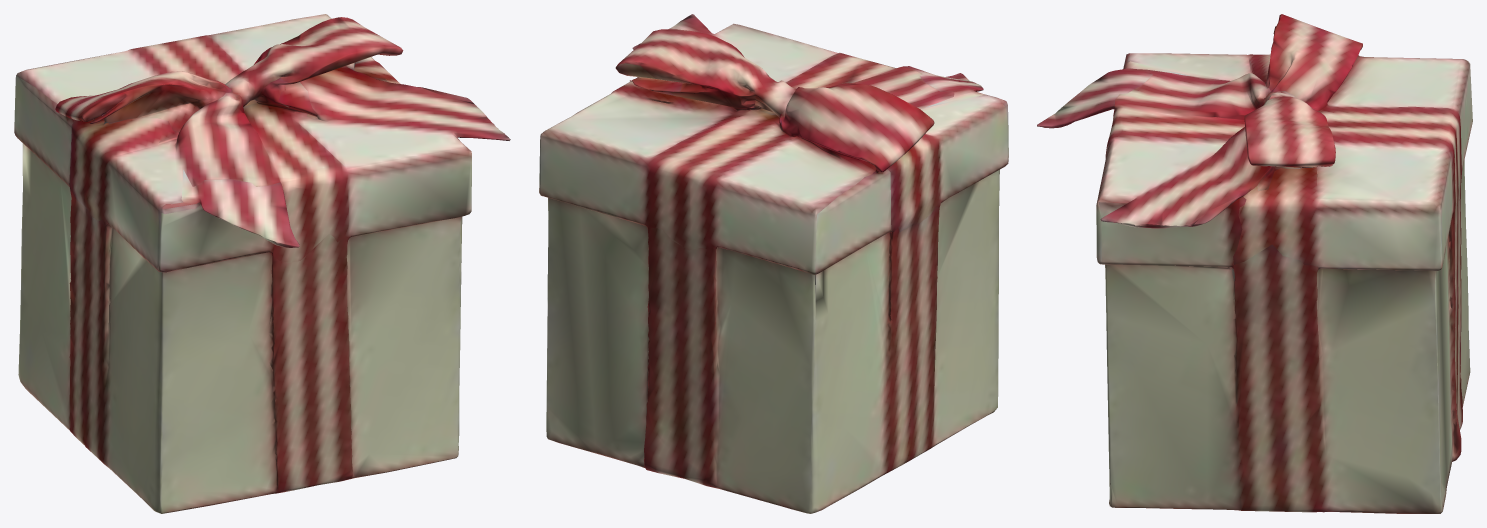
File: KS_Chocolate_Cube_Box_Assortment_By_Neuhaus_2010_Ounces-high.glb
The picture shows the model from 3 angles, left to right: view 1: azimuth 30°, elevation 25°; view 2: azimuth 150°, elevation 25°; view 3: azimuth 270°, elevation 25°; orthographic projection. The views are drawn at different scales.
Visible parts, largest first — view 1: KS_Chocolate_Cube_Box_Assortment_By_Neuhaus_2010_Ounces; view 2: KS_Chocolate_Cube_Box_Assortment_By_Neuhaus_2010_Ounces; view 3: KS_Chocolate_Cube_Box_Assortment_By_Neuhaus_2010_Ounces.
Part boxes in pixels (x1,y1,x2,y2): KS_Chocolate_Cube_Box_Assortment_By_Neuhaus_2010_Ounces: [14, 14, 510, 513]; KS_Chocolate_Cube_Box_Assortment_By_Neuhaus_2010_Ounces: [539, 14, 1008, 513]; KS_Chocolate_Cube_Box_Assortment_By_Neuhaus_2010_Ounces: [1037, 14, 1472, 513].
Size of the model in its own units: 0.1702 by 0.1723 by 0.1845.
Materials: 1 (1 with a texture image).
